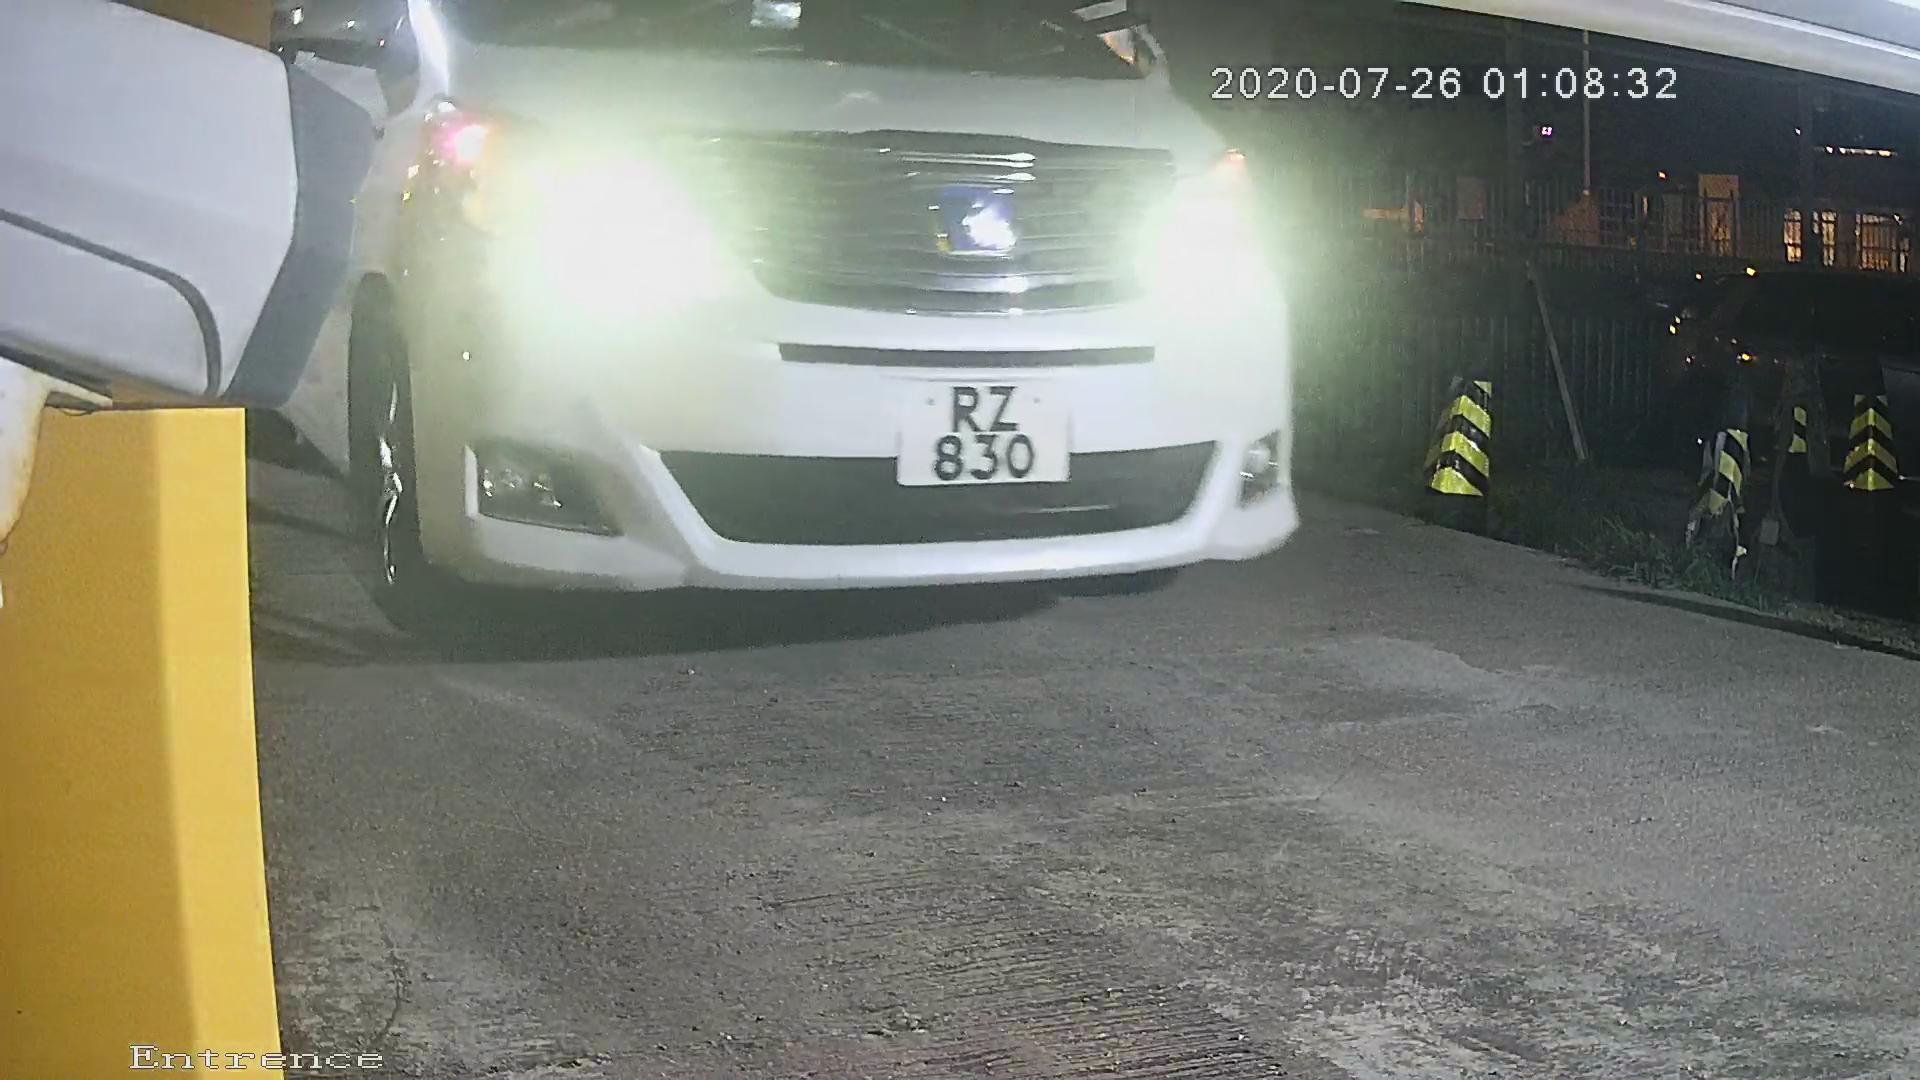privatecar: (309, 1, 1423, 647)
